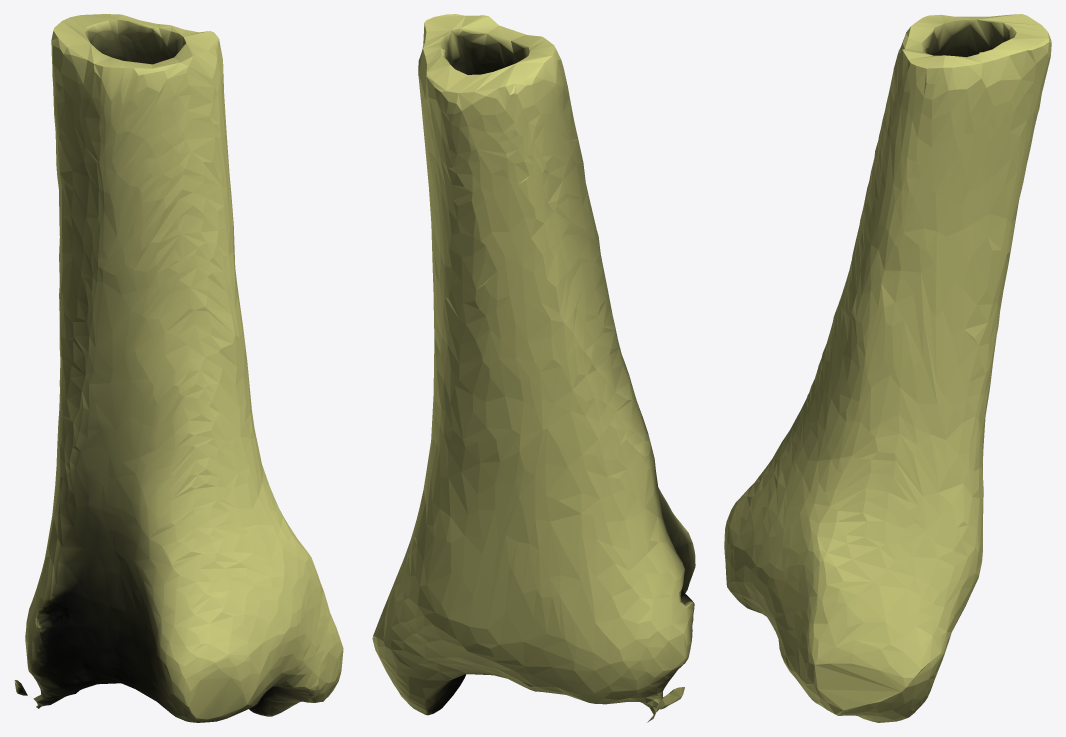
The model's file is Geometry0_lao.dae.
3 renders of one model, left to right at view 1: azimuth 30°, elevation 25°; view 2: azimuth 150°, elevation 25°; view 3: azimuth 270°, elevation 25°, orthographic. The views are drawn at different scales.
Visible parts, largest first — view 1: node; view 2: node; view 3: node.
Part boxes in pixels (x1,y1,x2,y2): node: [14, 14, 343, 722]; node: [372, 14, 695, 722]; node: [724, 14, 1051, 722].
Bounding box in the file's own units: 53.04 × 118 × 54.49.
